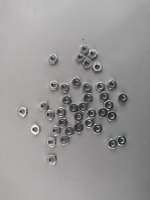nut: (117, 136, 128, 146), (108, 139, 118, 150), (107, 111, 117, 122), (93, 124, 103, 135), (31, 125, 41, 136), (18, 107, 28, 118), (39, 101, 49, 112), (45, 110, 55, 121), (57, 107, 67, 118), (74, 123, 84, 134), (84, 119, 95, 129), (87, 109, 97, 120), (104, 100, 114, 111), (107, 80, 118, 90), (93, 62, 103, 73), (47, 155, 57, 165), (119, 94, 129, 104), (47, 138, 57, 148), (59, 136, 69, 146), (58, 118, 68, 128), (51, 126, 61, 136), (98, 108, 108, 118), (76, 53, 86, 63), (80, 44, 90, 54), (89, 49, 99, 59), (83, 58, 93, 68), (50, 81, 60, 91), (72, 78, 82, 88), (60, 83, 70, 93), (62, 96, 72, 106), (83, 83, 93, 93), (99, 92, 109, 102), (84, 93, 94, 103), (78, 102, 88, 112), (74, 113, 84, 123), (70, 104, 80, 114), (49, 54, 58, 64), (97, 82, 106, 92), (66, 127, 73, 136)
